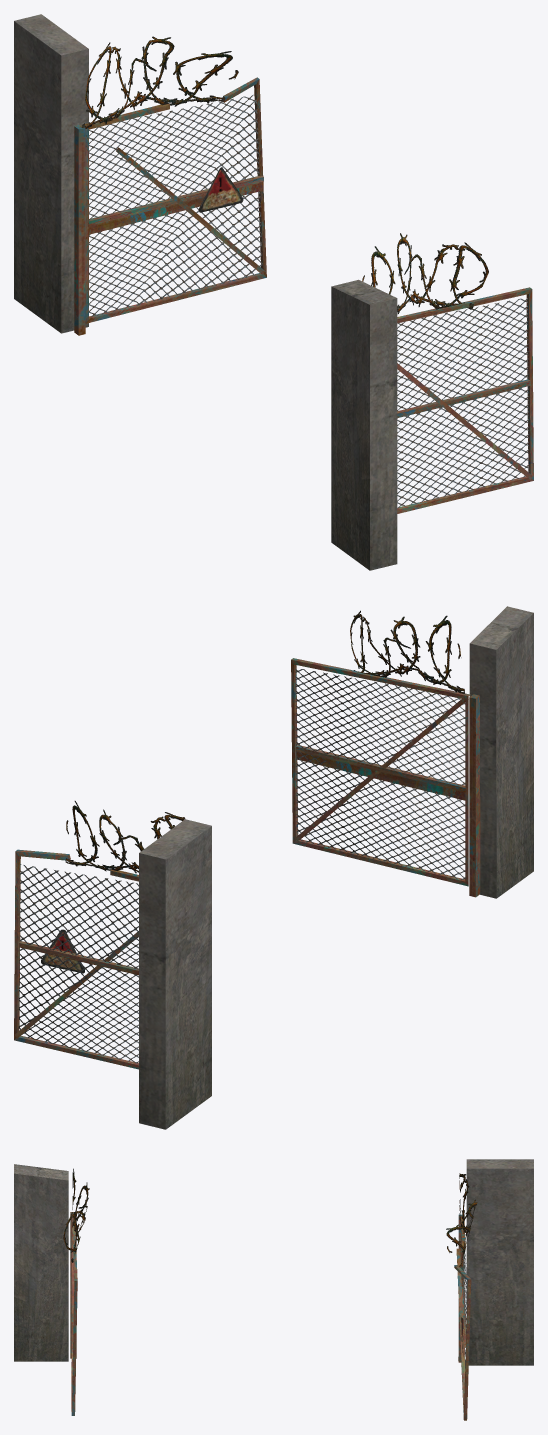
The model's file is Prop_Jz010_lod2.glb.
3 views of the same model, one above another, from view 1: azimuth 30°, elevation 25°; view 2: azimuth 150°, elevation 25°; view 3: azimuth 270°, elevation 25° (orthographic). The views are drawn at different scales.
Parts seen in each view (by area): view 1: xiutz_jz010_lod2_0; view 2: xiutz_jz010_lod2_0; view 3: xiutz_jz010_lod2_0.
Part boxes in pixels (x1,y1,x2,y2): xiutz_jz010_lod2_0: [14, 14, 533, 570]; xiutz_jz010_lod2_0: [14, 606, 533, 1129]; xiutz_jz010_lod2_0: [14, 1159, 533, 1420].
Bounding box in the file's own units: 5.84 × 7.62 × 17.28.
Materials: 2 (2 with a texture image).
